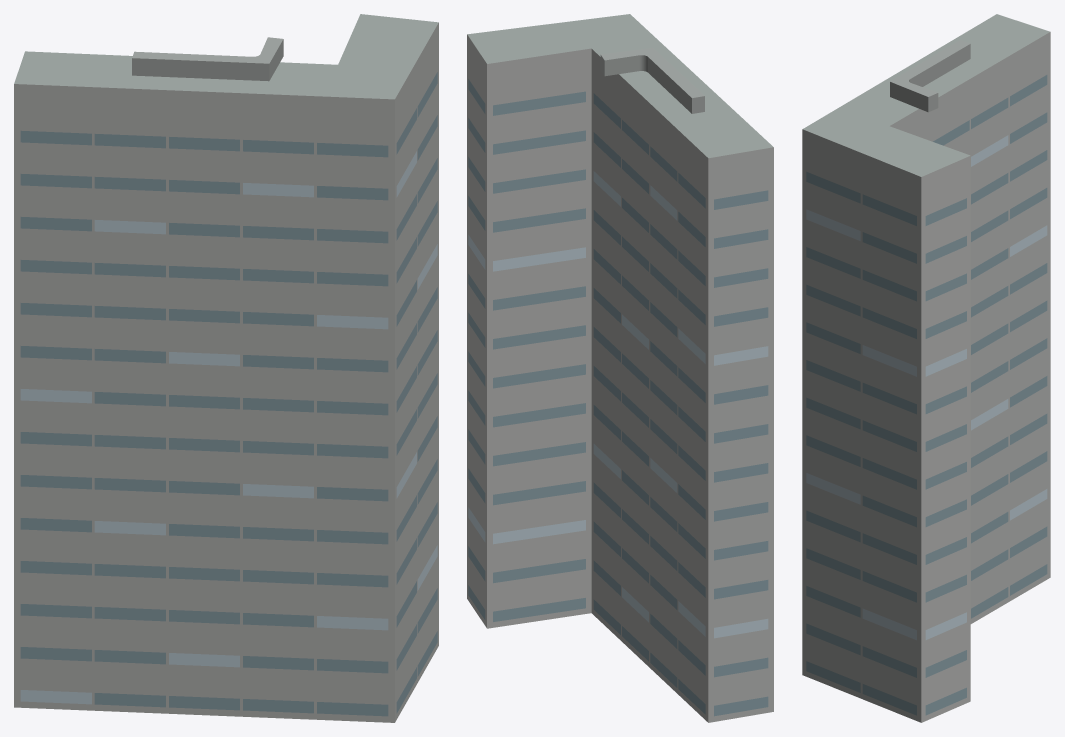
File: fallback-jamsil-ricenz-218.glb
3 renders of one model, left to right at view 1: azimuth 30°, elevation 25°; view 2: azimuth 150°, elevation 25°; view 3: azimuth 270°, elevation 25°, orthographic. The views are drawn at different scales.
Parts seen in each view (by area): view 1: fallback-jamsil-ricenz-218; view 2: fallback-jamsil-ricenz-218; view 3: fallback-jamsil-ricenz-218.
Boxes of the visible parts, box(x1,y1,x2,y2) form: fallback-jamsil-ricenz-218: box(14, 14, 438, 722); fallback-jamsil-ricenz-218: box(467, 14, 773, 722); fallback-jamsil-ricenz-218: box(802, 14, 1050, 722).
Bounding box in the file's own units: 54.84 × 88 × 35.25.
